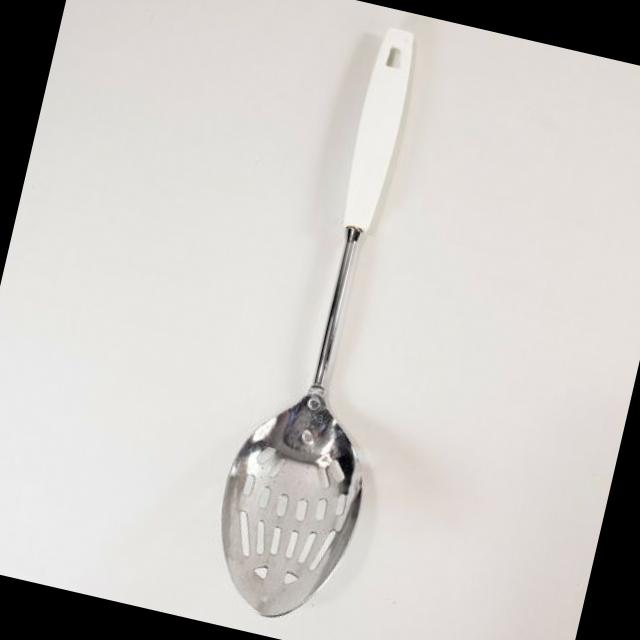spoon: (187, 13, 468, 640)
